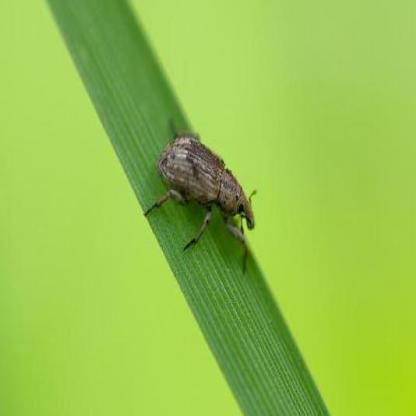rice-bug: (154, 132, 257, 248)
